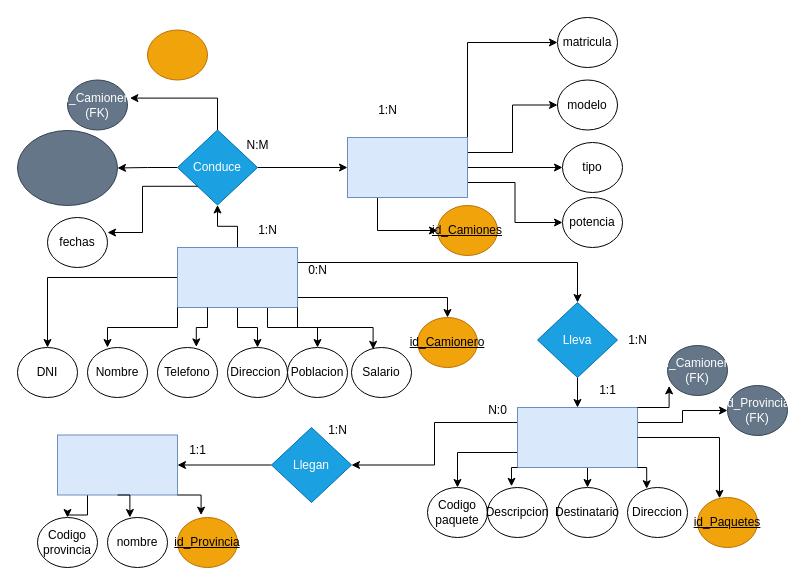
This 807x585 diagram has some shape labels left out. The shapes that lost their labels are listed below. From the top down, each one's centre as x and y in pixels, then its label:
the point at 177,54: id_Camiones_id_Camioneros
the point at 67,168: id_Camiones(FK)
the point at 407,167: Camiones
the point at 237,277: Camionero
the point at 577,437: Paquetes
the point at 117,464: Provincias
